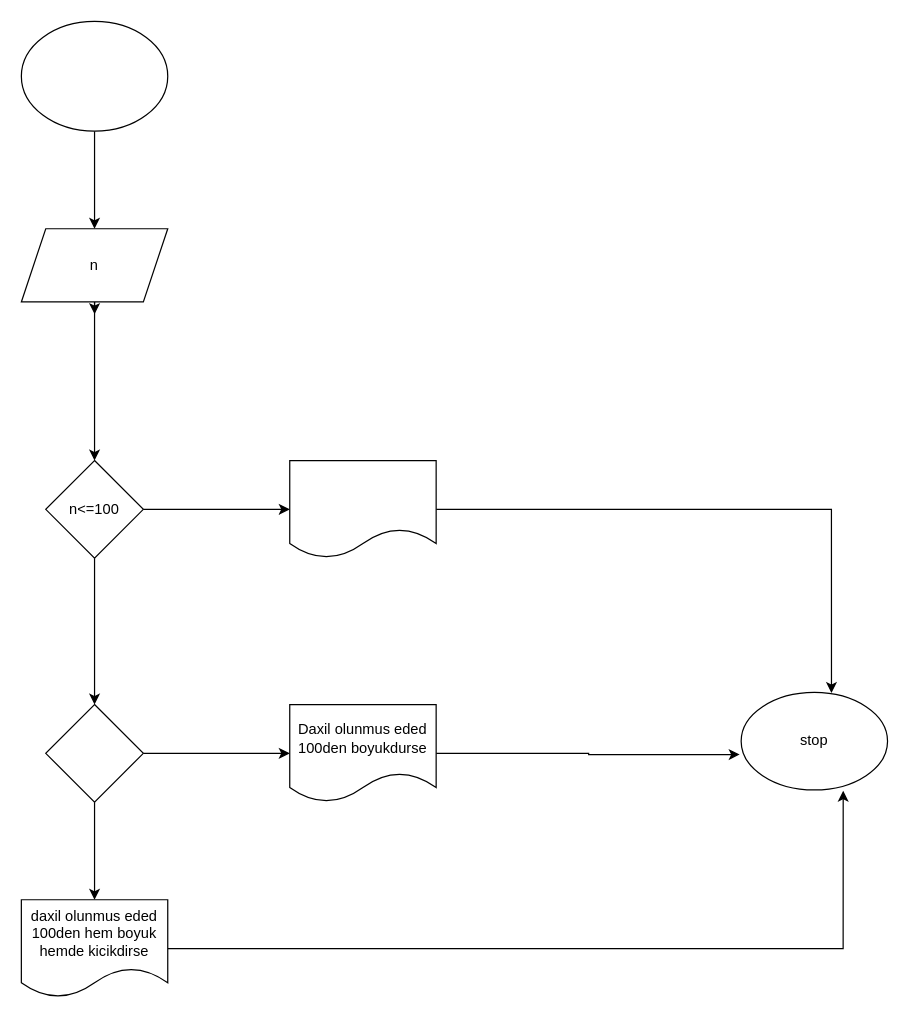
This 909x1019 diagram has some shape labels left out. The shapes that lost their labels are listed below. From the top down, each one's centre as x and y in pixels, then its label:
At (x=94, y=75): "start".
At (x=362, y=508): "Daxil olunmus eded 100den kicikdirse".
At (x=94, y=752): "n>==100".
